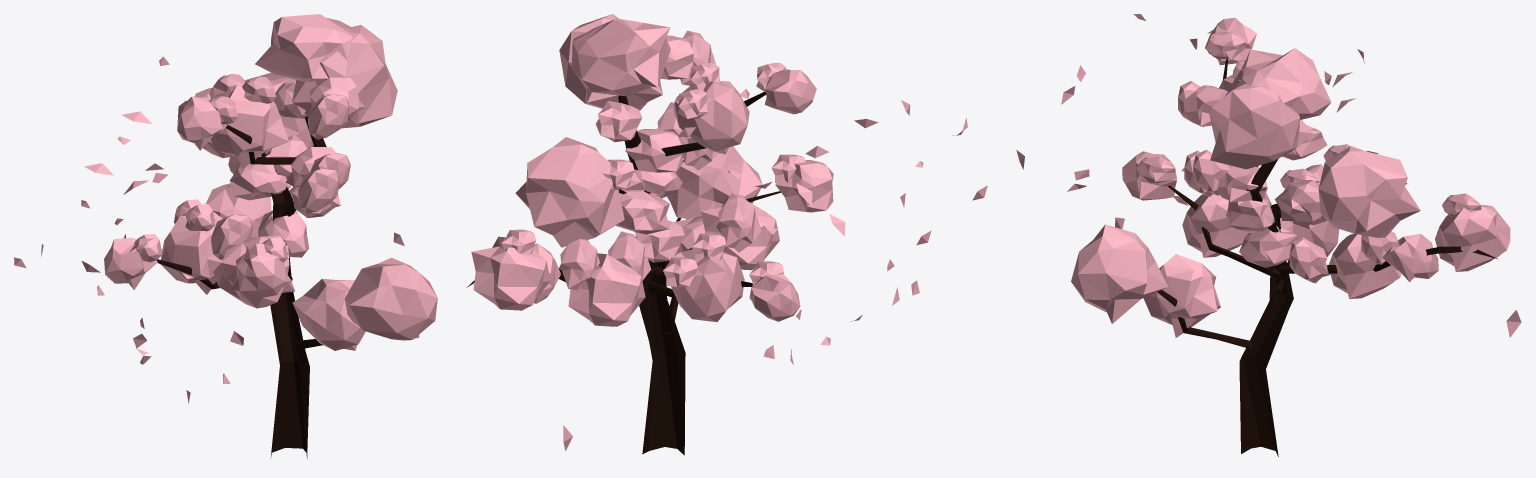
File: tree.obj
3 renders of one model, left to right at view 1: azimuth 30°, elevation 25°; view 2: azimuth 150°, elevation 25°; view 3: azimuth 270°, elevation 25°, orthographic. The views are drawn at different scales.
Visible parts, largest first — view 1: ??????????; view 2: ??????????; view 3: ??????????.
Part boxes in pixels (x1=…): ??????????: x1=14, y1=14, x2=437, y2=458; ??????????: x1=466, y1=14, x2=987, y2=455; ??????????: x1=1016, y1=14, x2=1521, y2=456.
Size of the model in its own units: 121 by 150 by 166.
